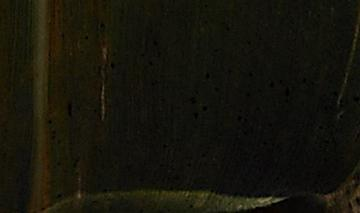tarspot: (220, 21, 233, 37), (75, 45, 89, 59), (147, 35, 162, 48), (49, 130, 62, 145), (58, 27, 70, 43), (95, 20, 107, 35), (351, 90, 360, 109), (107, 54, 117, 71), (230, 110, 243, 123), (200, 68, 212, 82), (52, 187, 64, 200), (297, 73, 309, 85), (184, 94, 197, 105), (264, 77, 275, 90), (245, 67, 256, 80), (212, 81, 223, 94), (53, 156, 64, 168), (44, 114, 54, 127), (243, 37, 253, 50), (146, 55, 155, 69), (295, 97, 307, 106), (82, 31, 89, 41), (191, 111, 201, 118)
